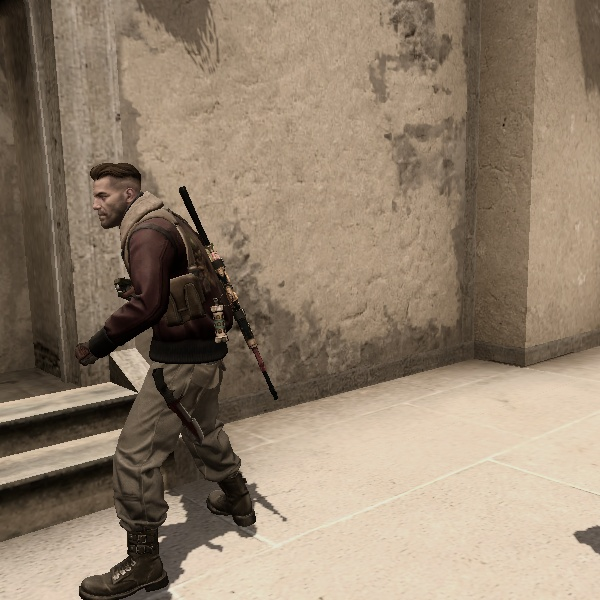t_body: (56, 151, 276, 591)
t_head: (75, 152, 169, 240)
